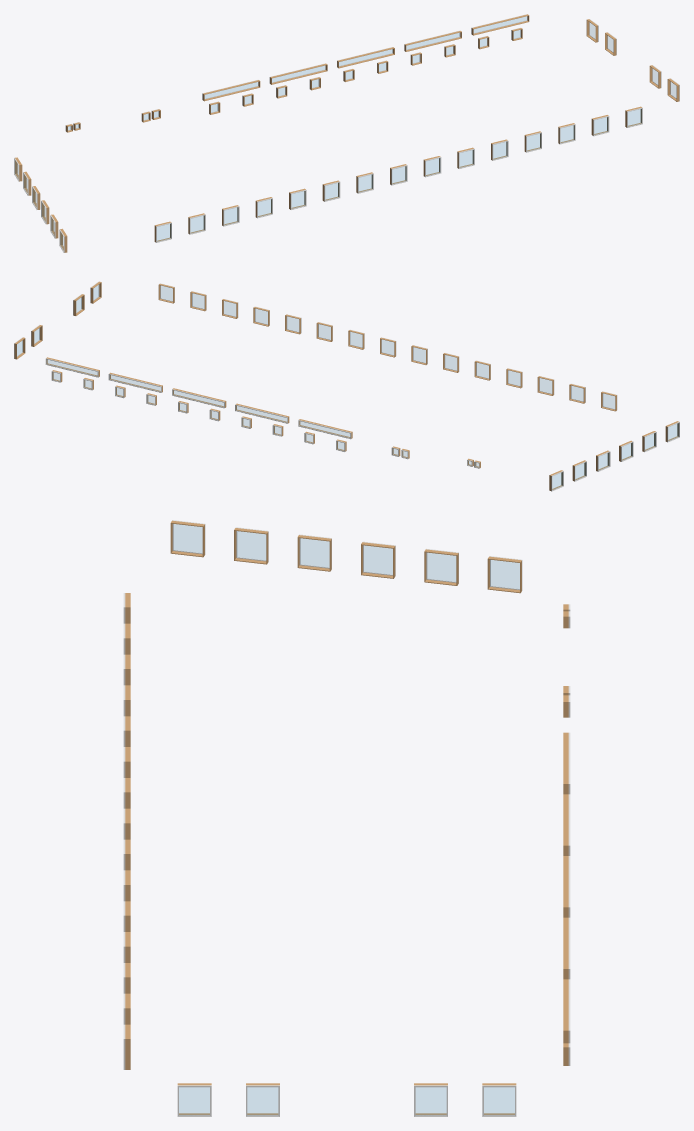
The model's file is Building Model - Excavation and Trench - updated_1kn71nZ$z5OvtVVlfMoO_M-Piso 1_IfcWindow.dae.
3 views of the same model, one above another, from view 1: azimuth 30°, elevation 25°; view 2: azimuth 150°, elevation 25°; view 3: azimuth 270°, elevation 25° (orthographic). The views are drawn at different scales.
Parts seen in each view (by area): view 1: 0jFAAIDIf1MvwbwQYdFyNs, 0jFAAIDIf1MvwbwQYdFyNr, 0jFAAIDIf1MvwbwQYdFyNh, 0jFAAIDIf1MvwbwQYdFyNq, 0jFAAIDIf1MvwbwQYdFyNt; view 2: 0jFAAIDIf1MvwbwQYdFyNh, 0jFAAIDIf1MvwbwQYdFyNr, 0jFAAIDIf1MvwbwQYdFyNs, 0jFAAIDIf1MvwbwQYdFyNt, 0jFAAIDIf1MvwbwQYdFyNq; view 3: 0jFAAIDIf1MvwbwQYdFyNg, 0jFAAIDIf1MvwbwQYdFyNX, 0jFAAIDIf1MvwbwQYdFyNd, 0jFAAIDIf1MvwbwQYdFyNc, 0jFAAIDIf1MvwbwQYdFyNa, 0jFAAIDIf1MvwbwQYdFyNb, 0jFAAIDIf1MvwbwQYdFy8T, 0jFAAIDIf1MvwbwQYdFyNW, 0jFAAIDIf1MvwbwQYdFyNY, 0jFAAIDIf1MvwbwQYdFyNZ.
Part boxes in pixels (bbox=[...]): 0jFAAIDIf1MvwbwQYdFyNs: bbox=[269, 63, 327, 84]; 0jFAAIDIf1MvwbwQYdFyNr: bbox=[471, 14, 529, 35]; 0jFAAIDIf1MvwbwQYdFyNh: bbox=[202, 79, 260, 101]; 0jFAAIDIf1MvwbwQYdFyNq: bbox=[404, 30, 461, 51]; 0jFAAIDIf1MvwbwQYdFyNt: bbox=[337, 47, 394, 68]; 0jFAAIDIf1MvwbwQYdFyNh: bbox=[298, 419, 352, 439]; 0jFAAIDIf1MvwbwQYdFyNr: bbox=[45, 357, 99, 377]; 0jFAAIDIf1MvwbwQYdFyNs: bbox=[235, 403, 289, 423]; 0jFAAIDIf1MvwbwQYdFyNt: bbox=[172, 388, 226, 408]; 0jFAAIDIf1MvwbwQYdFyNq: bbox=[108, 372, 162, 392]; 0jFAAIDIf1MvwbwQYdFyNg: bbox=[487, 556, 522, 593]; 0jFAAIDIf1MvwbwQYdFyNX: bbox=[170, 520, 205, 557]; 0jFAAIDIf1MvwbwQYdFyNd: bbox=[297, 534, 331, 571]; 0jFAAIDIf1MvwbwQYdFyNc: bbox=[234, 527, 268, 564]; 0jFAAIDIf1MvwbwQYdFyNa: bbox=[361, 541, 395, 578]; 0jFAAIDIf1MvwbwQYdFyNb: bbox=[424, 548, 458, 585]; 0jFAAIDIf1MvwbwQYdFy8T: bbox=[177, 1083, 211, 1116]; 0jFAAIDIf1MvwbwQYdFyNW: bbox=[482, 1083, 516, 1116]; 0jFAAIDIf1MvwbwQYdFyNY: bbox=[246, 1083, 279, 1116]; 0jFAAIDIf1MvwbwQYdFyNZ: bbox=[414, 1083, 447, 1116].
Size of the model in its own units: 55.08 by 18.36 by 2.05.
